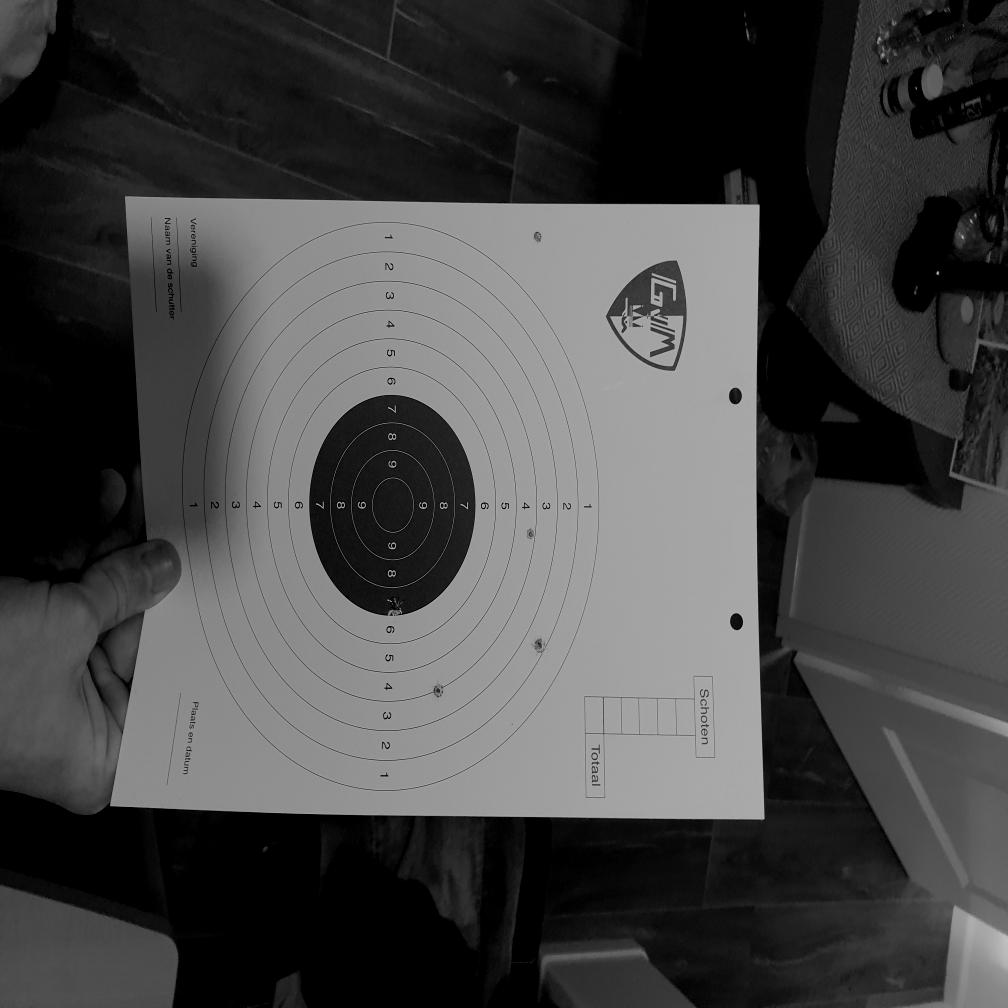0: (532, 230, 543, 244)
2: (531, 636, 549, 657)
4: (429, 682, 446, 702), (526, 528, 535, 540)
7: (387, 596, 405, 618)
Target: (183, 223, 597, 795)
black_contour: (309, 394, 475, 615)
